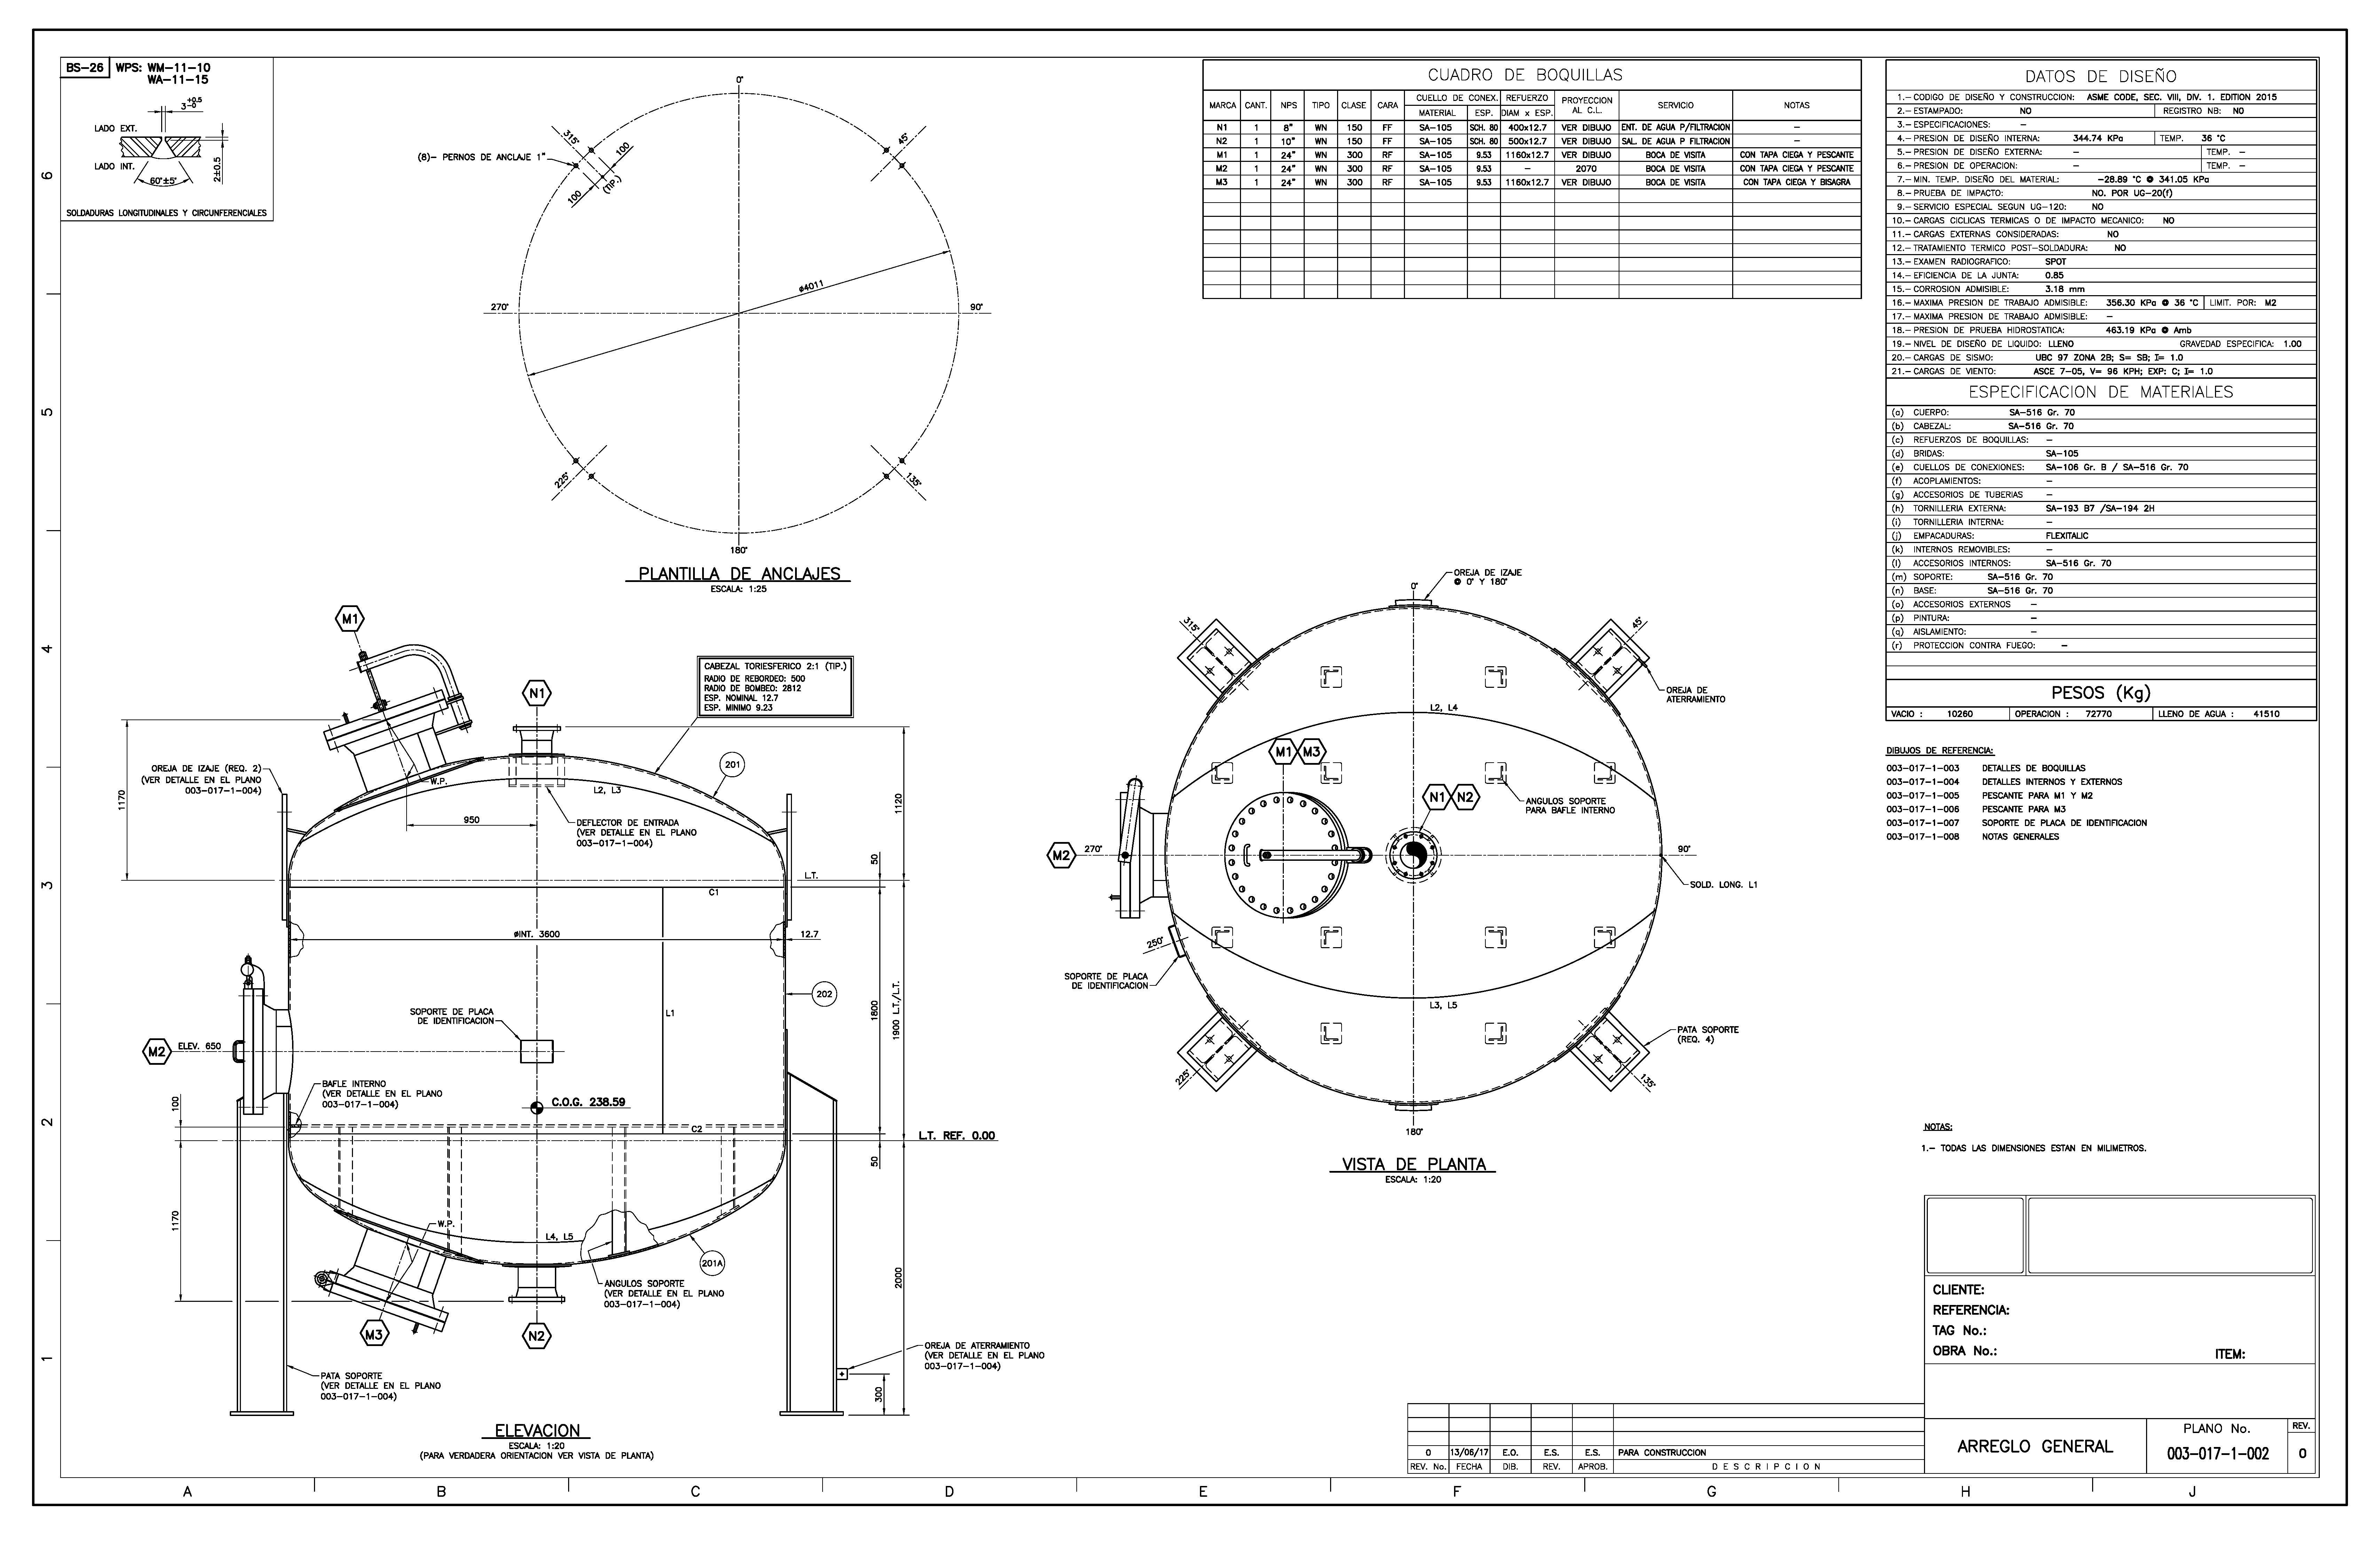nozzle: (1055, 777, 1199, 949), (300, 1212, 487, 1339), (203, 959, 326, 1136)
